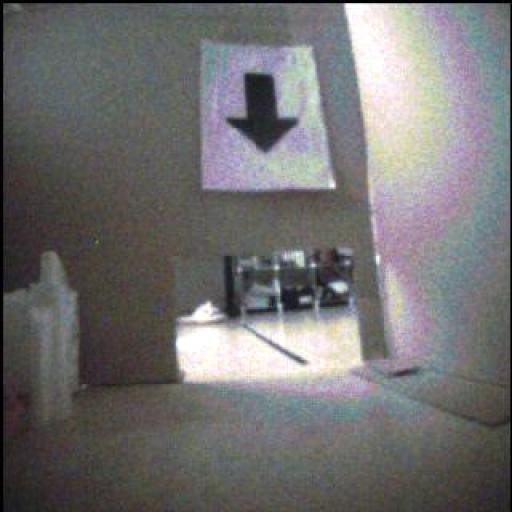arrow: (228, 75, 299, 153)
